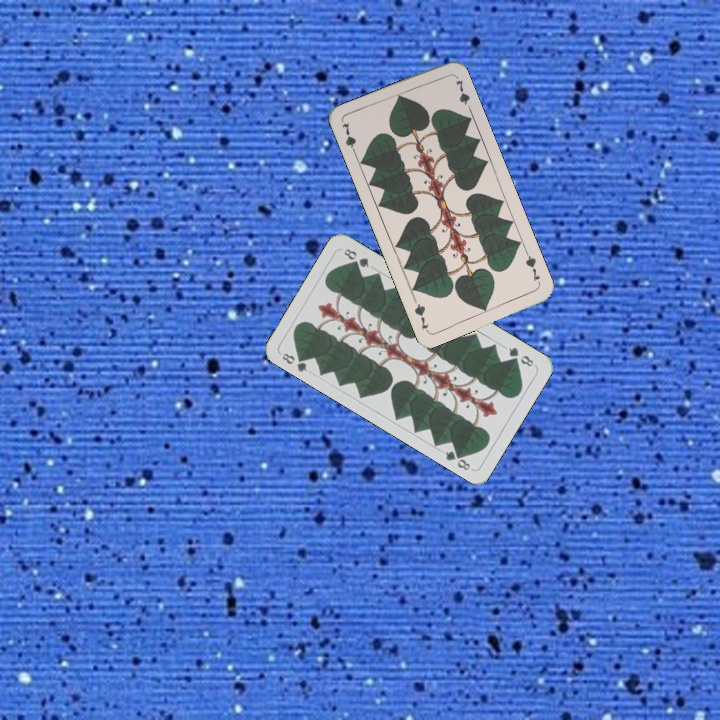G7: (521, 248, 543, 287), (338, 118, 359, 158)
G8: (504, 343, 536, 369), (278, 349, 310, 375)
